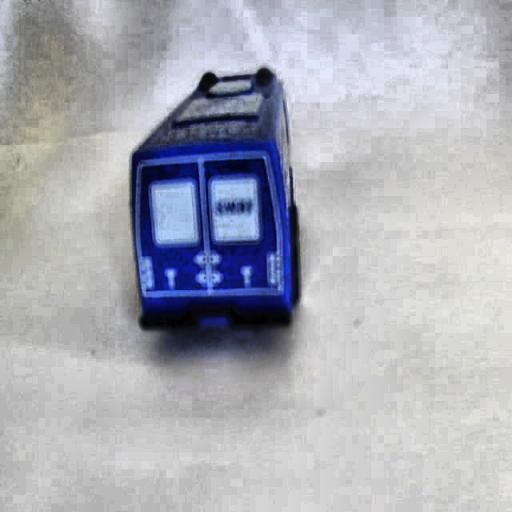police car: (130, 75, 300, 324)
